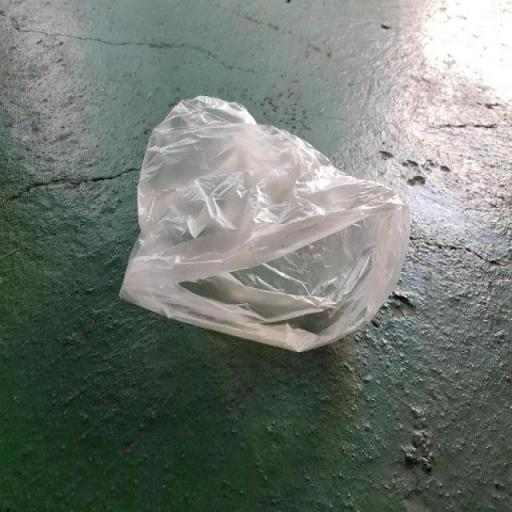plastic-bag: (116, 89, 413, 357)
